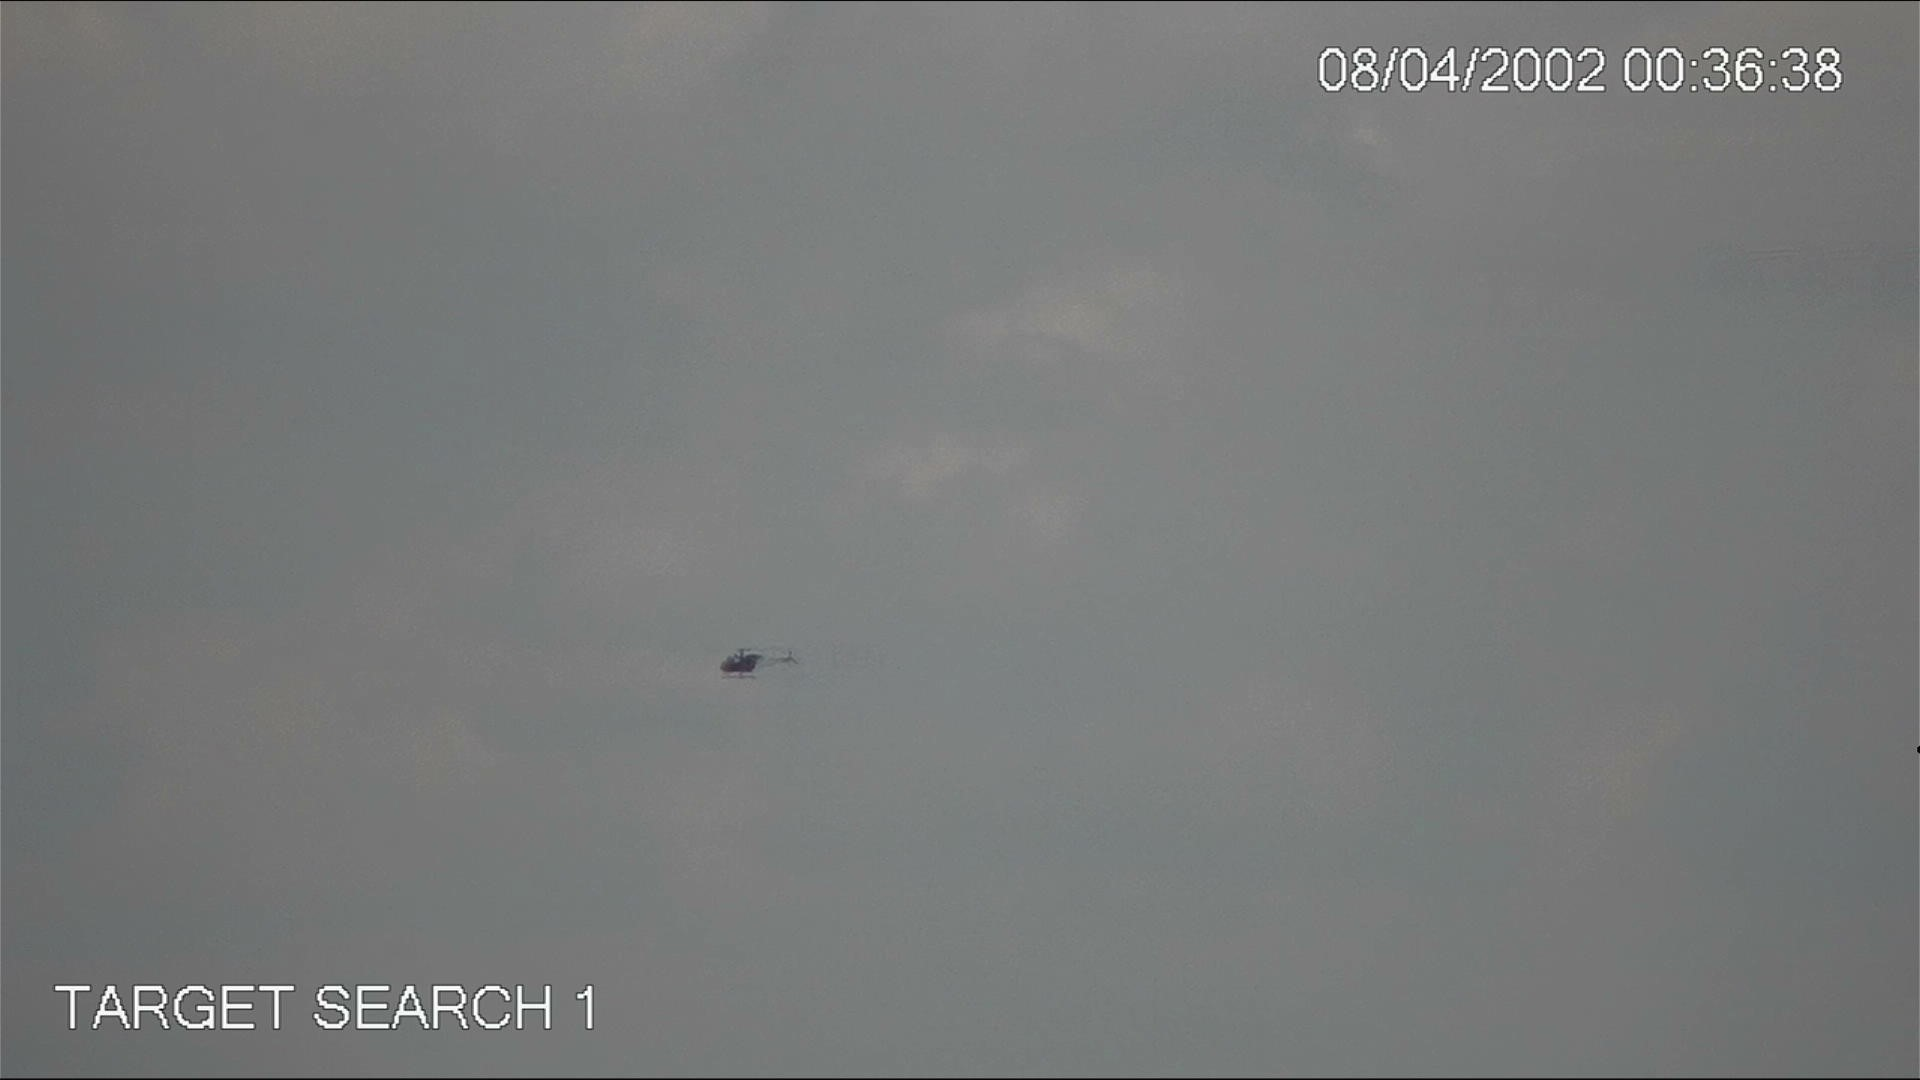SU_30: (717, 641, 798, 684)
